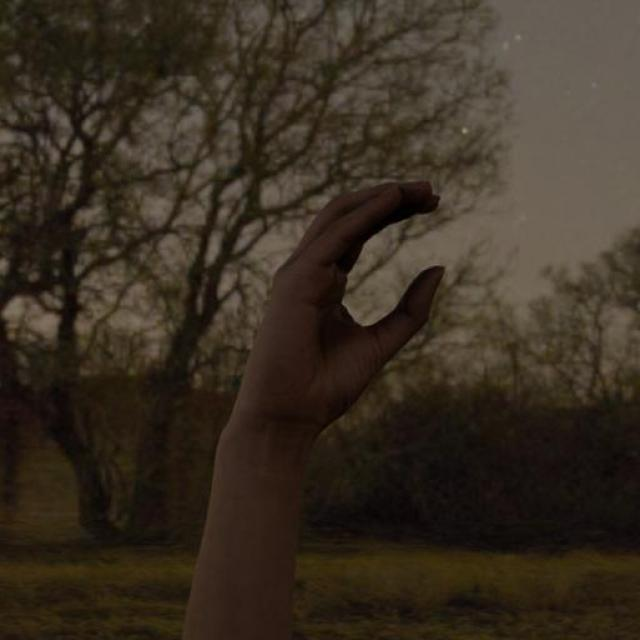C: (223, 174, 446, 445)
